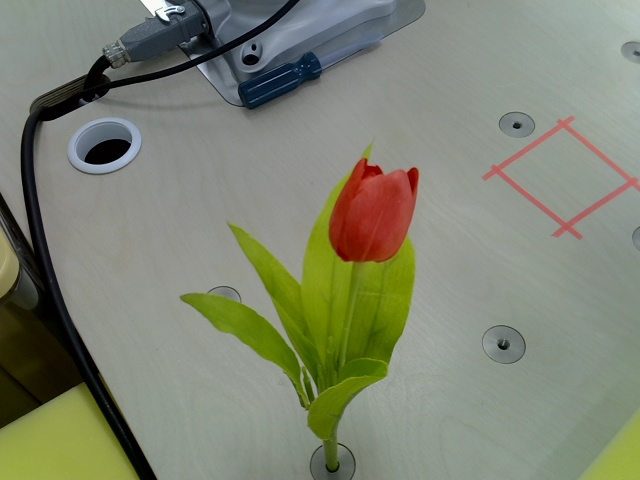튤립: (328, 156, 420, 263)
